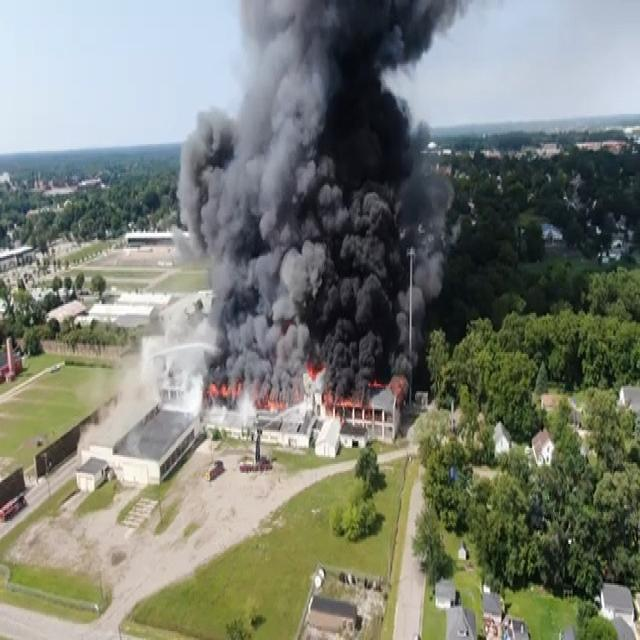Smoke: (316, 0, 409, 179), (239, 0, 319, 208), (397, 162, 444, 374), (358, 184, 401, 374), (320, 187, 358, 392), (181, 103, 234, 242), (281, 244, 327, 373), (206, 245, 242, 376), (248, 246, 278, 386)
